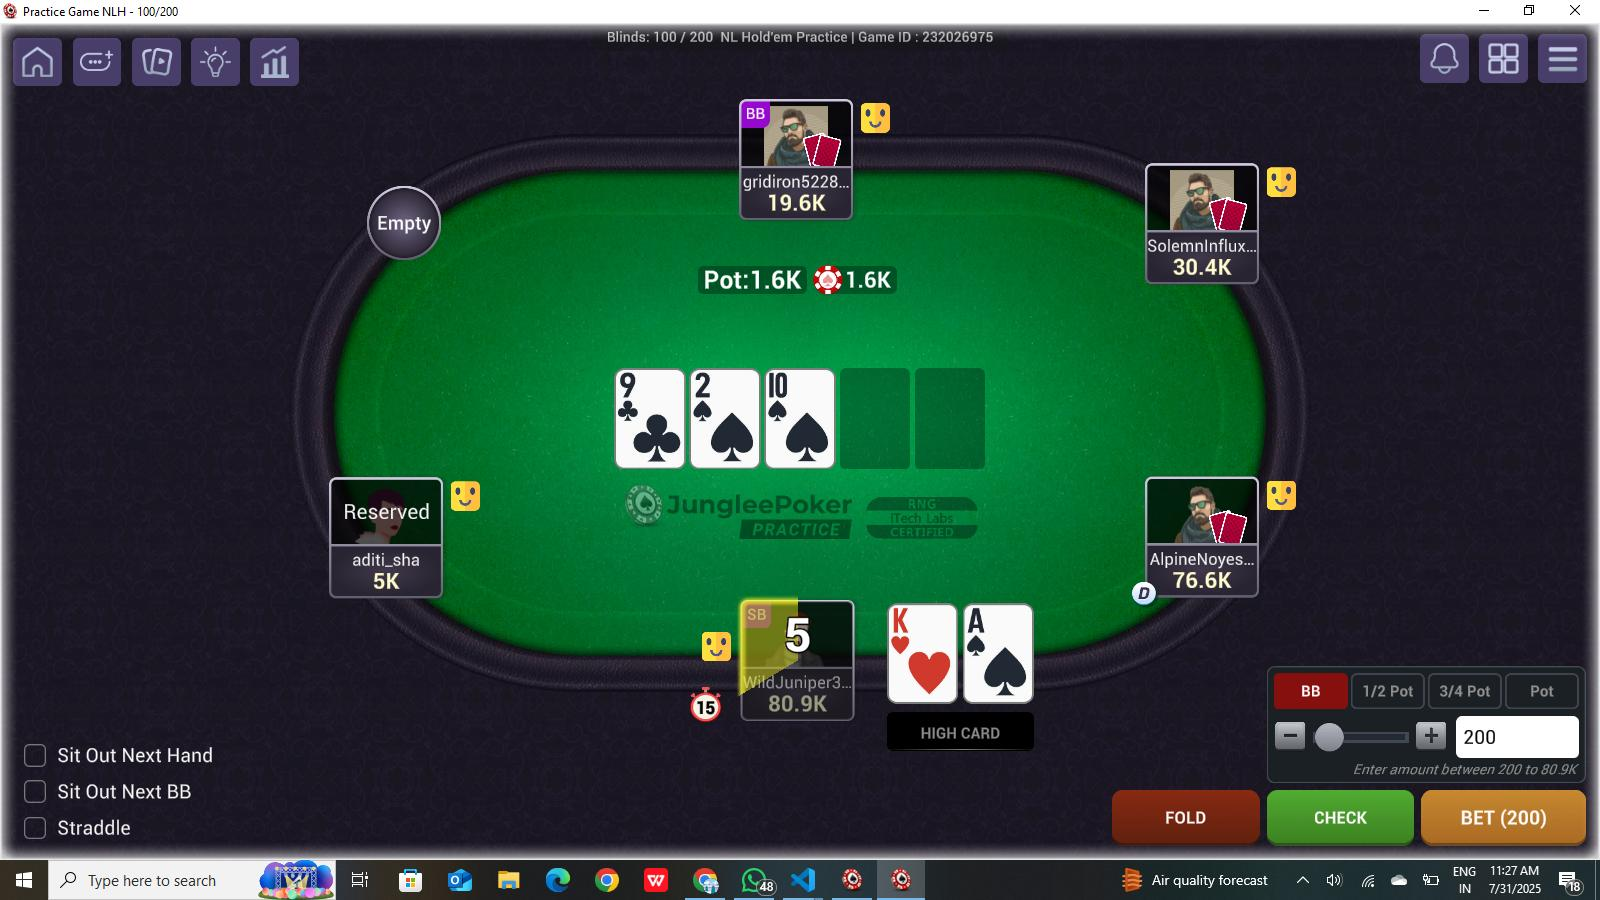button_bet: (1423, 791, 1581, 840)
button_check: (1268, 790, 1416, 845)
button_fold: (1115, 787, 1258, 852)
card1_rank: (888, 603, 923, 646)
card1_suite_heart: (905, 643, 957, 702)
card2_rank: (965, 605, 1003, 640)
card2_suite_spades: (975, 638, 1032, 700)
flop1_rank: (613, 371, 657, 407)
flop1_suite_club: (629, 407, 684, 467)
flop2_rank: (691, 371, 733, 407)
flop2_suite_spades: (702, 405, 758, 465)
flop3_rank: (767, 368, 805, 407)
flop3_suite_spades: (777, 402, 833, 467)
game_id: (854, 25, 1005, 55)
iinput_field: (1457, 713, 1578, 758)
my_stack: (757, 695, 842, 722)
position_BB: (740, 102, 771, 130)
position_SB: (743, 603, 775, 633)
total_pot: (700, 264, 897, 297)
villian1_name: (333, 538, 443, 571)
villian1_stack: (360, 571, 415, 593)
villian3_name: (742, 170, 848, 190)
villian3_stack: (760, 190, 833, 212)
villian4_name: (1145, 232, 1257, 257)
villian4_stack: (1170, 251, 1238, 278)
villian5_name: (1151, 543, 1254, 568)
villian5_stack: (1168, 567, 1238, 593)
